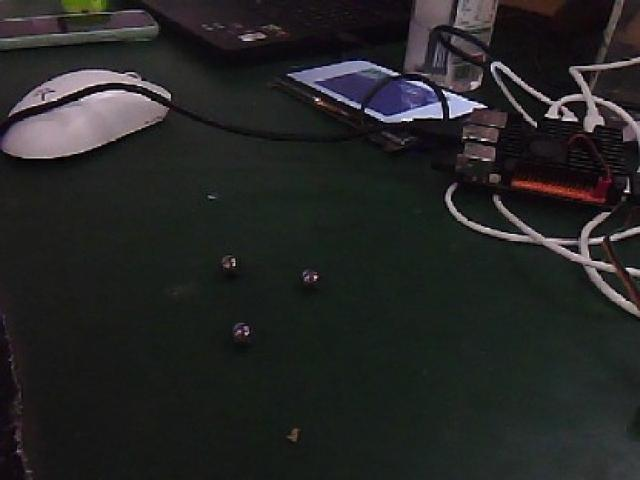steel-ball: (292, 254, 331, 297), (224, 304, 253, 348), (208, 242, 240, 276)
